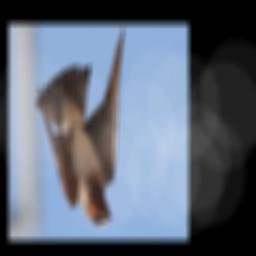Swallow: (36, 26, 124, 226)
